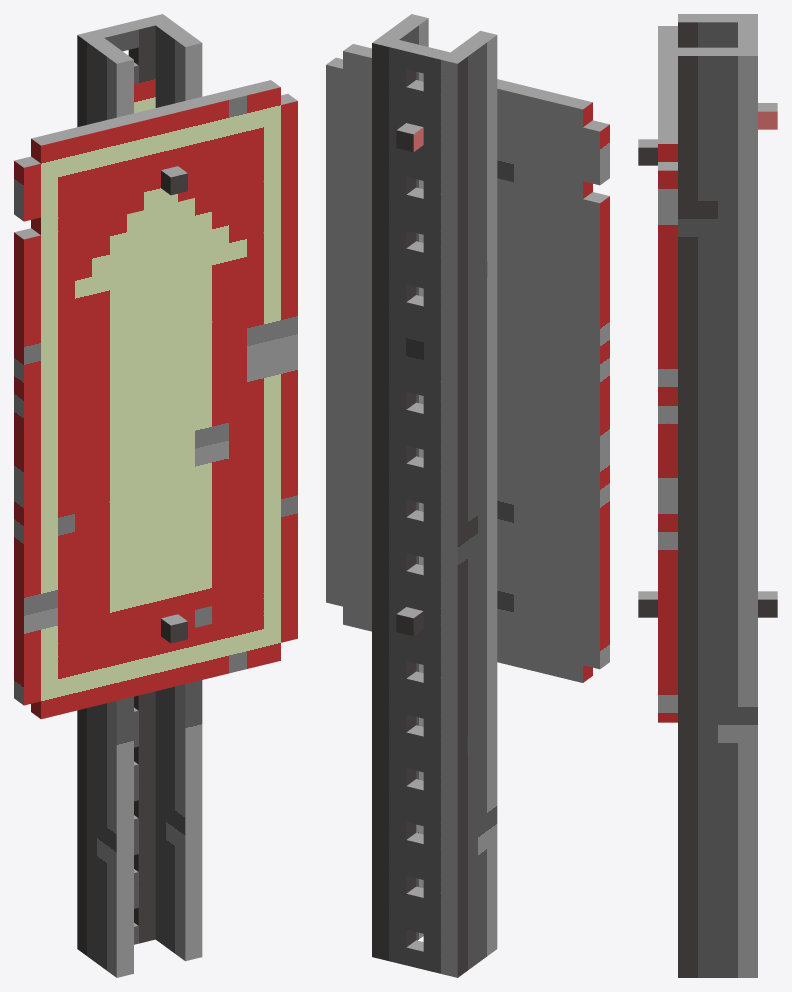
The model's file is up_signao.fezao.glb.
3 views of the same model, side by side, from view 1: azimuth 30°, elevation 25°; view 2: azimuth 150°, elevation 25°; view 3: azimuth 270°, elevation 25° (orthographic).
Visible parts, largest first — view 1: UP_SIGNAO; view 2: UP_SIGNAO; view 3: UP_SIGNAO.
Boxes of the visible parts, x1,y1,x2,y2 form: UP_SIGNAO: [14, 14, 297, 977]; UP_SIGNAO: [326, 14, 609, 977]; UP_SIGNAO: [638, 14, 777, 977].
Size of the model in its own units: 1 by 3.19 by 0.4375.
Materials: 1 (1 with a texture image).
